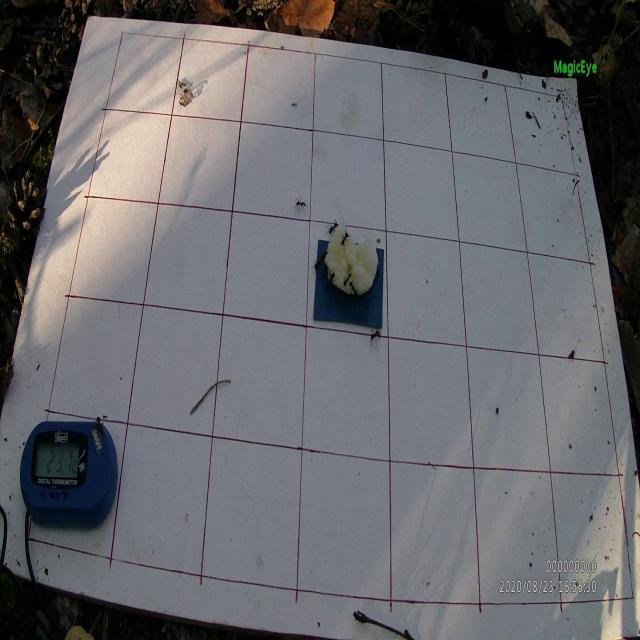Ant: (293, 197, 308, 211), (340, 229, 350, 250), (370, 329, 380, 350), (328, 267, 338, 288), (326, 220, 339, 236), (342, 272, 352, 289), (349, 282, 359, 298), (94, 416, 104, 431), (311, 259, 321, 274), (320, 249, 328, 261)
